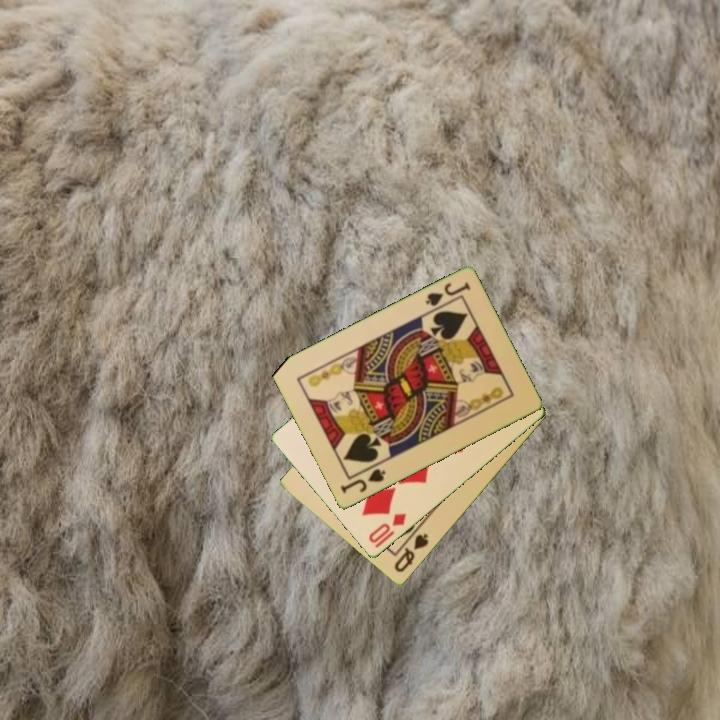10d: (365, 510, 409, 547)
Js: (336, 465, 389, 497), (421, 279, 473, 309)
Qs: (391, 530, 432, 576)
